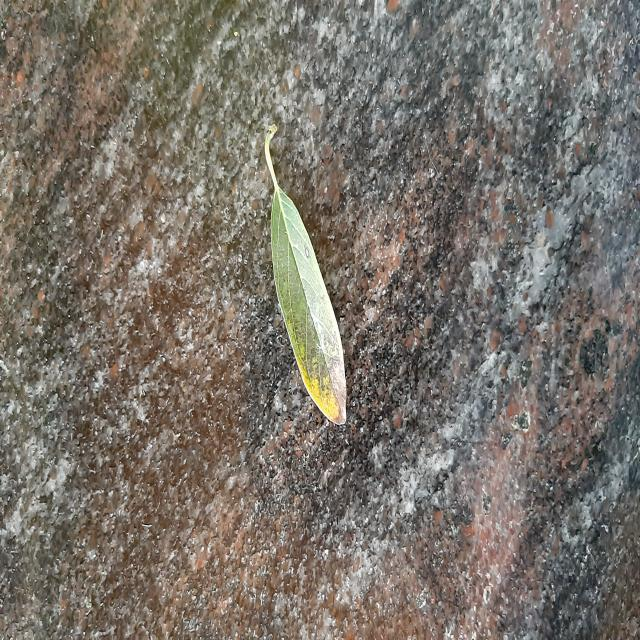leaf spot: (265, 125, 346, 423)
